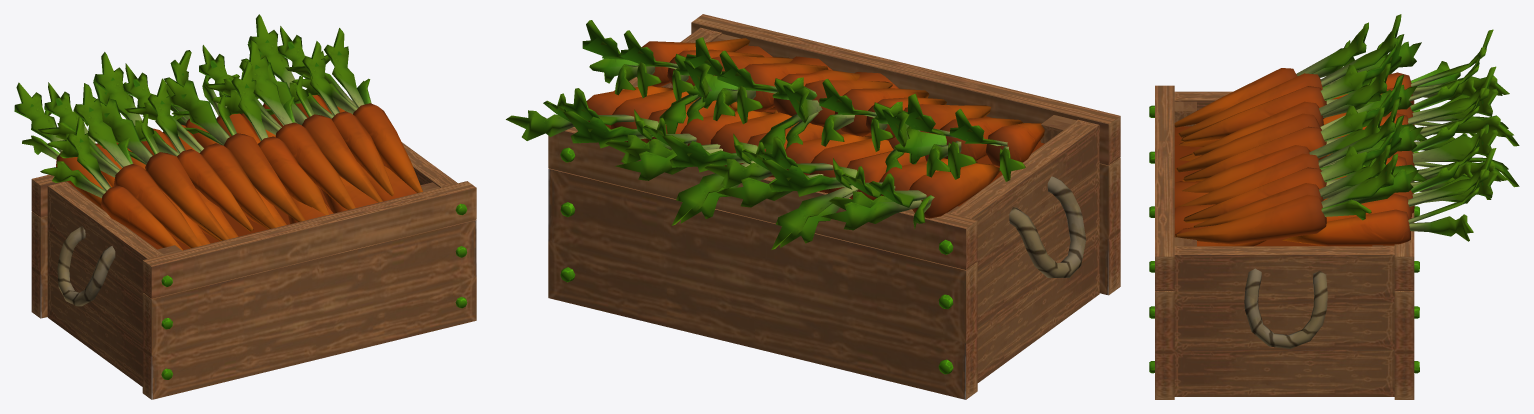
Rendered from FarmCrate_Carrot.gltf.
The picture shows the model from 3 angles, left to right: view 1: azimuth 30°, elevation 25°; view 2: azimuth 150°, elevation 25°; view 3: azimuth 270°, elevation 25°; orthographic projection. The views are drawn at different scales.
Parts seen in each view (by area): view 1: FarmCrate_Carrot; view 2: FarmCrate_Carrot; view 3: FarmCrate_Carrot.
Boxes of the visible parts, x1,y1,x2,y2 form: FarmCrate_Carrot: (14,14,476,399); FarmCrate_Carrot: (506,14,1120,399); FarmCrate_Carrot: (1149,14,1519,399).
Size of the model in its own units: 0.7138 by 0.4113 by 0.567.
Materials: 3 (3 with a texture image).
